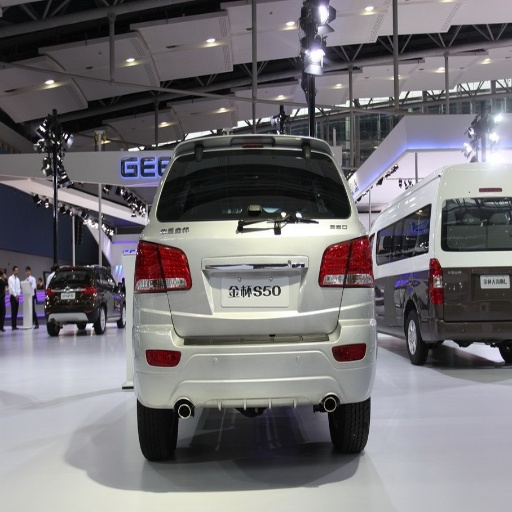back_bumper: (134, 288, 372, 410)
tailgate: (155, 218, 347, 334)
trunk: (160, 225, 265, 336), (286, 230, 351, 336)
